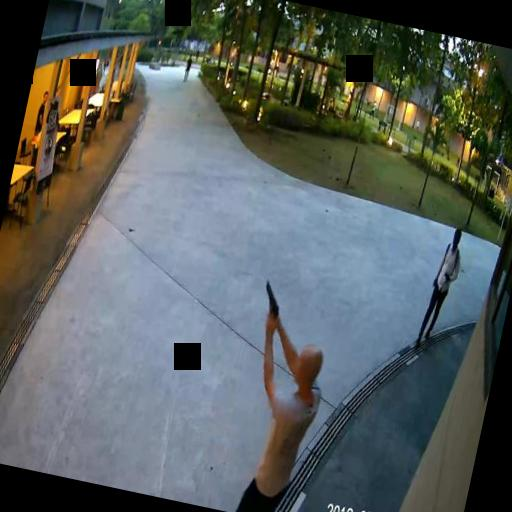Handgun: (256, 278, 285, 326)
